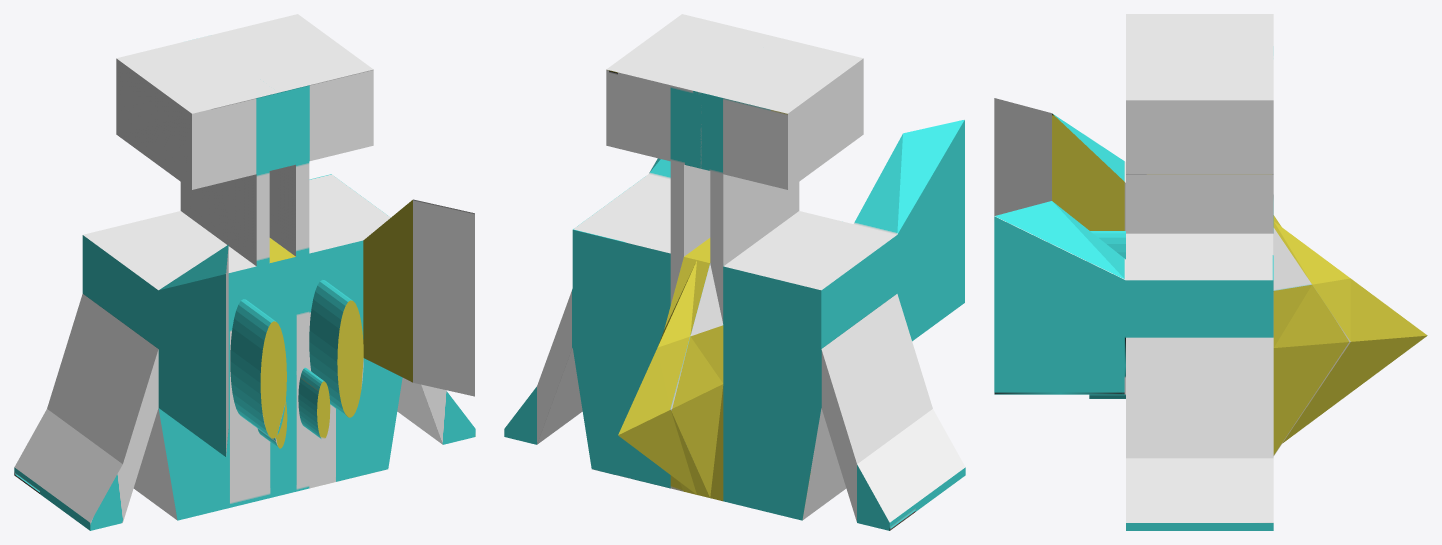
Rendered from perikann.obj.
The picture shows the model from 3 angles, left to right: view 1: azimuth 30°, elevation 25°; view 2: azimuth 150°, elevation 25°; view 3: azimuth 270°, elevation 25°; orthographic projection. The views are drawn at different scales.
Parts seen in each view (by area): view 1: 円柱.002; view 2: 円柱.002; view 3: 円柱.002.
Boxes of the visible parts, x1,y1,x2,y2 form: 円柱.002: (14, 14, 475, 530); 円柱.002: (504, 14, 965, 530); 円柱.002: (994, 14, 1427, 530).
Bounding box in the file's own units: 2.59 × 2.59 × 2.59.
